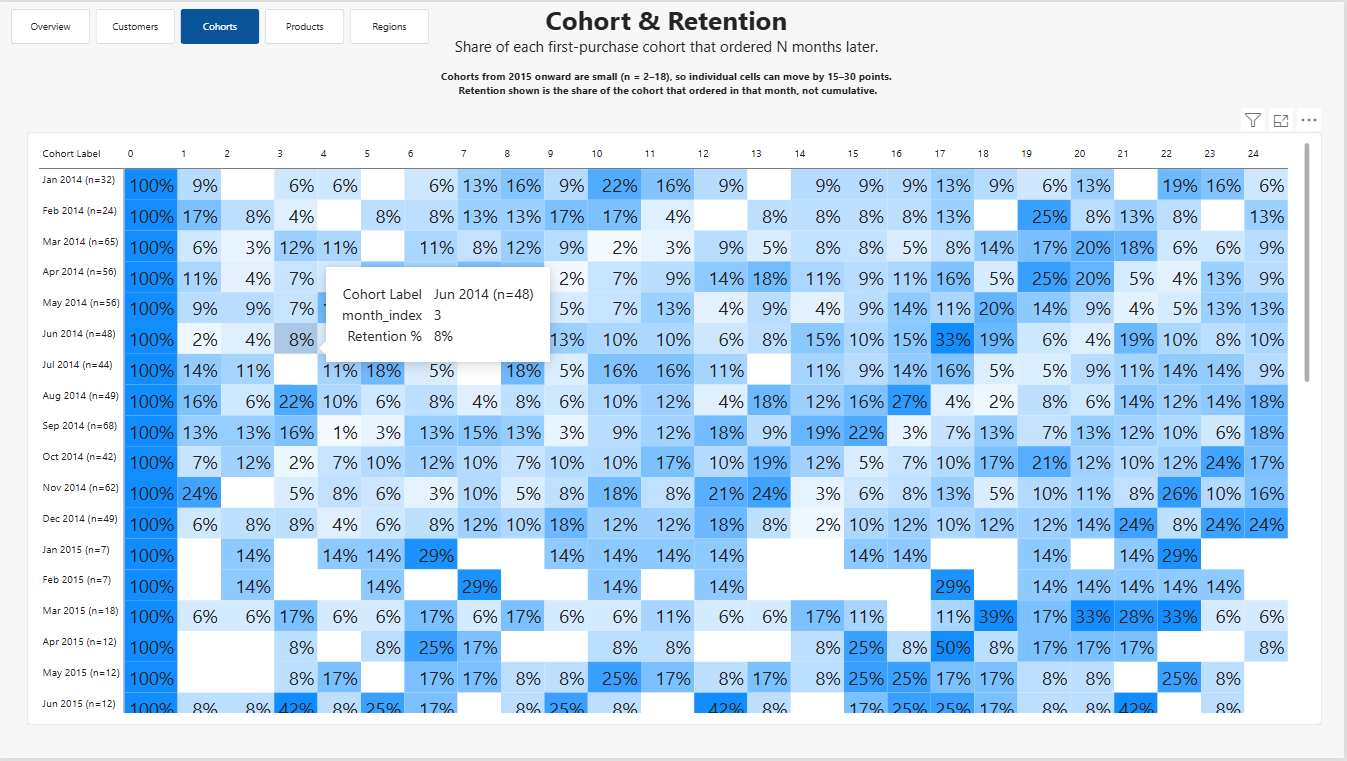

The dashboard page shown, as its layout file describes it:
{"tool":"powerbi","page":{"name":"Cohorts","canvas":[1920,1080],"ordinal":2},"visuals":[{"type":"pivotTable","fields":{"Columns":["vw_cohort_retention.month_index"],"Rows":["vw_cohort_retention.Cohort Label"],"Values":["vw_cohort_retention.Retention %"]},"box":[38.6,186.2,1850.1,847.2],"z":0},{"type":"pageNavigator","box":[16,9.3,600,50.5],"z":1},{"type":"textbox","box":[16,0,1872.7,158.3],"z":2}]}

Visuals, with their boxes on the page's 1920x1080 design canvas (x1, y1, x2, y2). These are canvas units, not pixel positions in the 1347x761 screenshot, which may show the page scaled, cropped or inside an application window:
pivotTable - vw_cohort_retention.month_index x vw_cohort_retention.Cohort Label: box=[39, 186, 1889, 1033]
pageNavigator: box=[16, 9, 616, 60]
textbox: box=[16, 0, 1889, 158]
